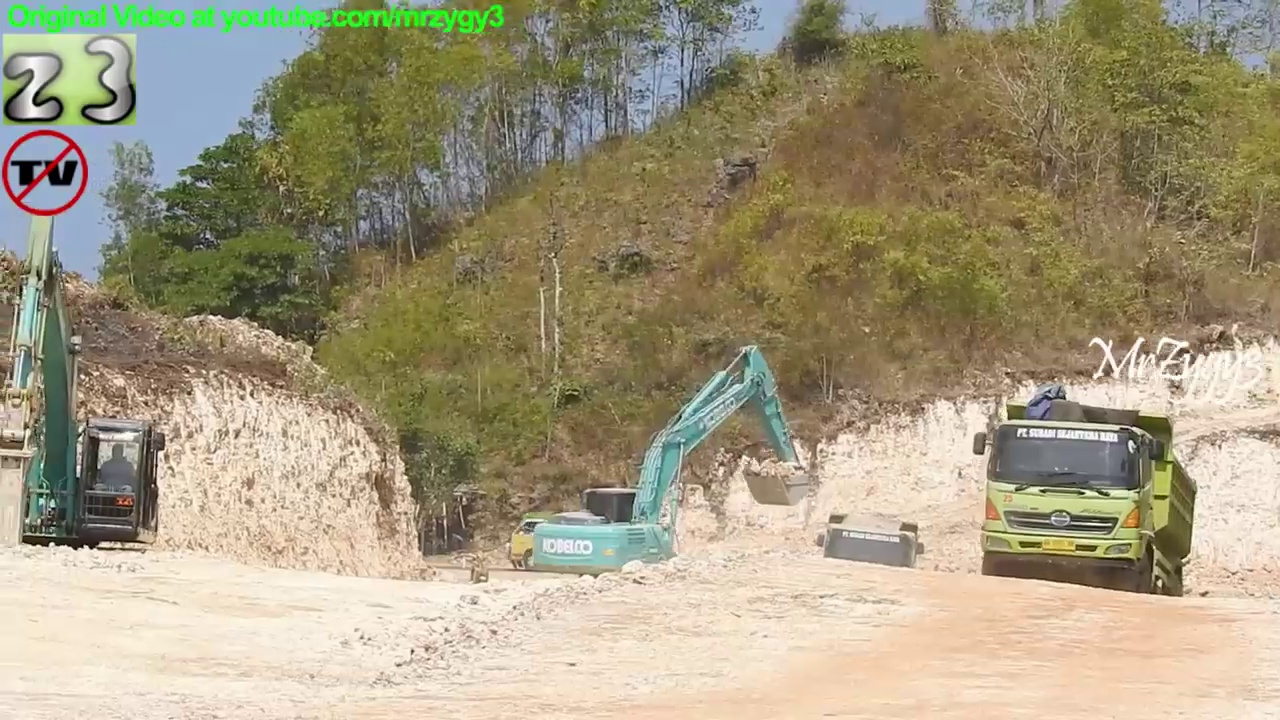excavator: (524, 338, 817, 612), (1, 201, 174, 592)
truck: (965, 393, 1202, 610), (810, 507, 931, 613), (503, 506, 662, 581)
